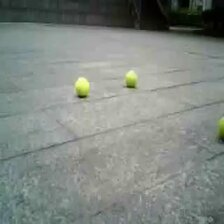tennis: (73, 77, 90, 94), (124, 71, 138, 87)
